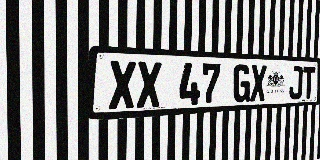4: (179, 63, 201, 106)
7: (201, 63, 221, 104)
G: (233, 64, 251, 103)
J: (289, 66, 303, 100)
T: (302, 66, 315, 99)
X: (109, 60, 136, 109), (137, 61, 162, 108), (250, 65, 267, 102)
